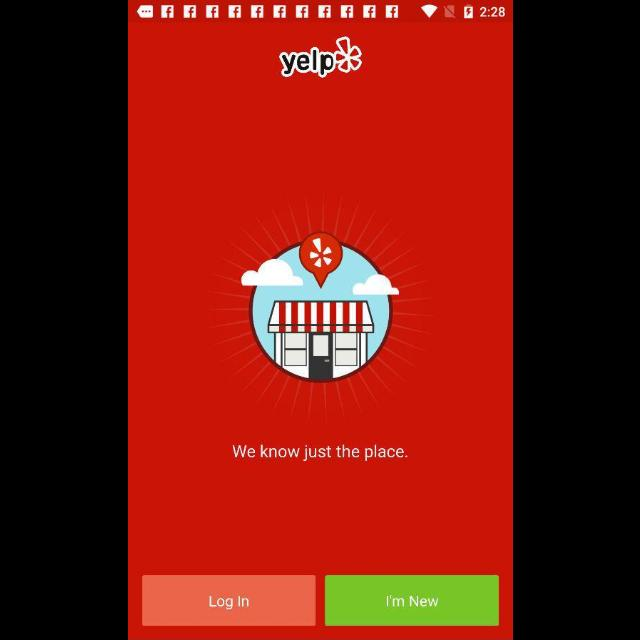image: (207, 195, 438, 422), (278, 36, 362, 78)
text: (232, 444, 408, 462)
textbutton: (324, 576, 498, 626), (142, 576, 316, 626)
uppertaskbar: (128, 2, 512, 20)
